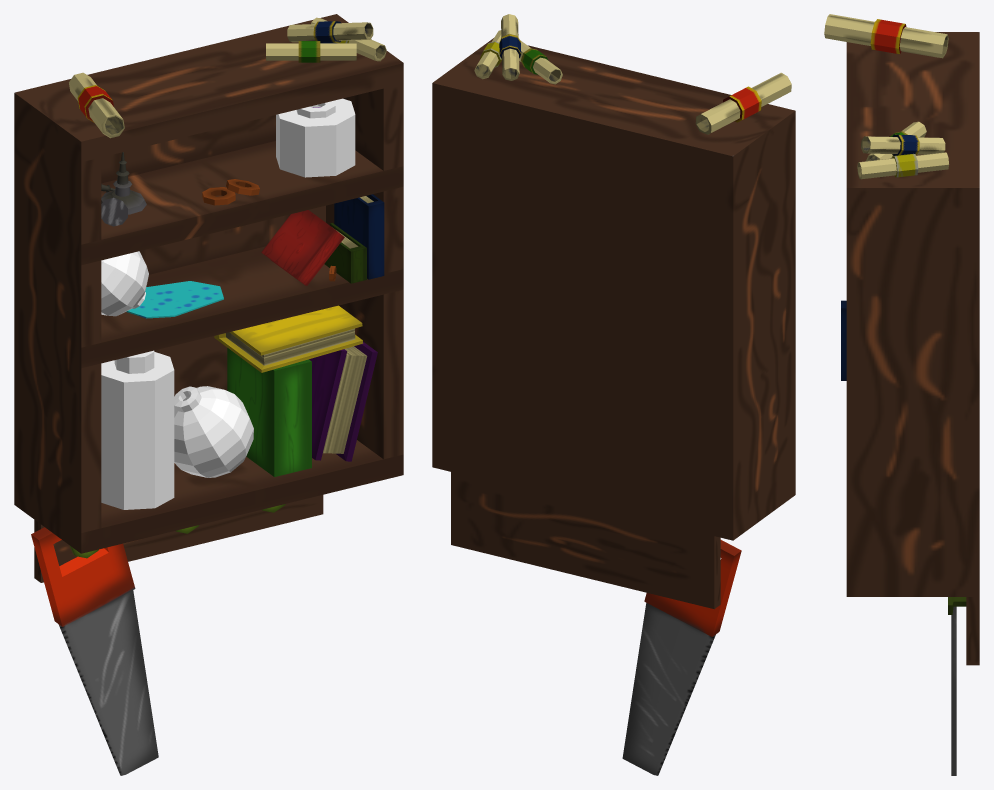
Rendered from Bookshelf.fbx.
3 views of the same model, side by side, from view 1: azimuth 30°, elevation 25°; view 2: azimuth 150°, elevation 25°; view 3: azimuth 270°, elevation 25° (orthographic). The views are drawn at different scales.
Parts seen in each view (by area): view 1: Shelf, Zaag, pCylinder1, pCube2, pSphere1, pCube9, pCube4, pCylinder21, pCube7, pCube5, pSphere4, pCylinder3 (+5 smaller); view 2: Shelf, Zaag, pCylinder20, pCylinder18, pCylinder19, pCylinder10; view 3: Shelf, pCylinder20, pCylinder10, pCylinder18, Zaag, pCube5, pCylinder19.
Part boxes in pixels (left/top/right/bottom): Shelf: left=14, top=14, right=403, bottom=582; Zaag: left=31, top=527, right=158, bottom=775; pCylinder1: left=101, top=350, right=174, bottom=509; pCube2: left=227, top=348, right=311, bottom=476; pSphere1: left=174, top=386, right=253, bottom=477; pCube9: left=309, top=341, right=377, bottom=461; pCube4: left=214, top=305, right=363, bottom=372; pCylinder21: left=276, top=98, right=355, bottom=177; pCube7: left=261, top=210, right=344, bottom=285; pCube5: left=334, top=194, right=384, bottom=279; pSphere4: left=101, top=251, right=148, bottom=316; pCylinder3: left=126, top=281, right=223, bottom=318; Shelf: left=432, top=38, right=795, bottom=609; Zaag: left=622, top=540, right=741, bottom=775; pCylinder20: left=695, top=72, right=791, bottom=134; pCylinder18: left=499, top=14, right=521, bottom=80; pCylinder19: left=519, top=40, right=562, bottom=84; pCylinder10: left=474, top=30, right=501, bottom=79; Shelf: left=846, top=32, right=979, bottom=665; pCylinder20: left=824, top=14, right=948, bottom=58; pCylinder10: left=857, top=152, right=948, bottom=179; pCylinder18: left=861, top=134, right=945, bottom=155; Zaag: left=951, top=606, right=956, bottom=775; pCube5: left=841, top=300, right=846, bottom=380; pCylinder19: left=866, top=121, right=926, bottom=161.
Size of the model in its own units: 1 by 2.18 by 0.4204.
3 materials, 1 textured.
